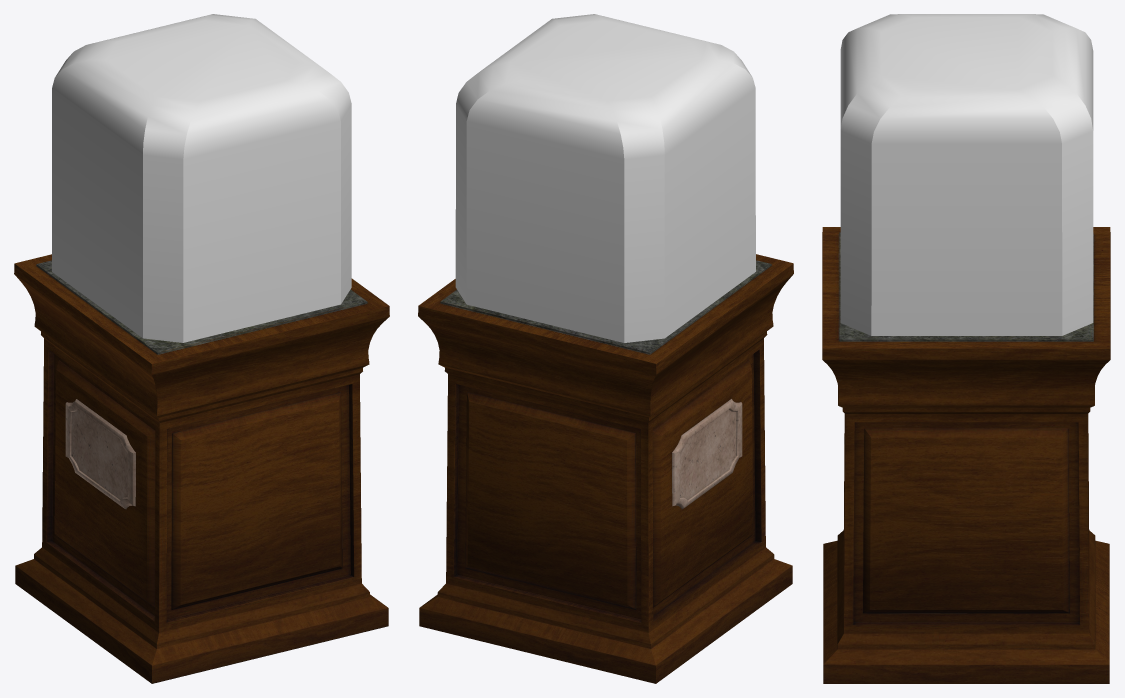
The model's file is pedestalCarta.fbx.
3 renders of one model, left to right at view 1: azimuth 30°, elevation 25°; view 2: azimuth 150°, elevation 25°; view 3: azimuth 270°, elevation 25°, orthographic. The views are drawn at different scales.
Visible parts, largest first — view 1: Object_8, Cube, Object_10, Object_9; view 2: Object_8, Cube, Object_10, Object_9; view 3: Object_8, Cube, Object_9.
Boxes of the visible parts, left/top/right/bottom form: Object_8: left=14, top=254, right=389, bottom=683; Cube: left=52, top=14, right=351, bottom=342; Object_10: left=65, top=399, right=135, bottom=509; Object_9: left=36, top=260, right=367, bottom=354; Object_8: left=418, top=254, right=793, bottom=683; Cube: left=455, top=14, right=755, bottom=342; Object_10: left=672, top=399, right=742, bottom=509; Object_9: left=440, top=260, right=771, bottom=354; Object_8: left=822, top=227, right=1110, bottom=683; Cube: left=840, top=14, right=1093, bottom=335; Object_9: left=839, top=232, right=1093, bottom=341.
Bounding box in the file's own units: 145 × 316 × 145.
Materials: 1 (1 with a texture image).
